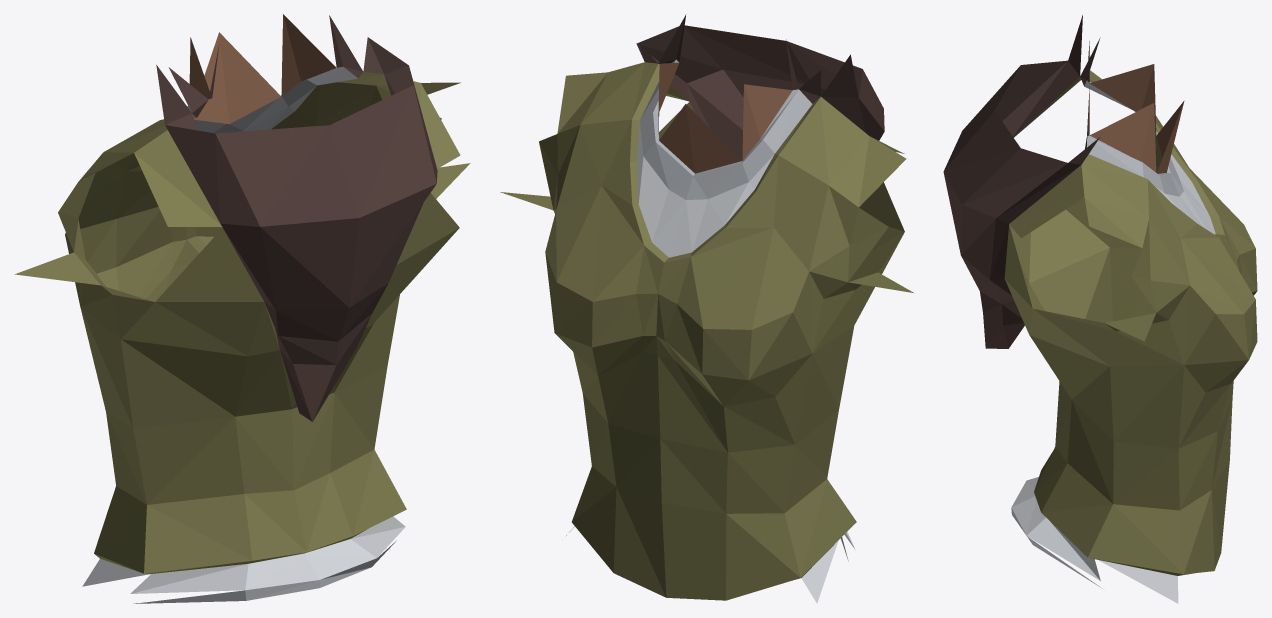
The model's file is Daughter_01_Torso_0_01_C.obj.
The picture shows the model from 3 angles, left to right: view 1: azimuth 30°, elevation 25°; view 2: azimuth 150°, elevation 25°; view 3: azimuth 270°, elevation 25°; orthographic projection. The views are drawn at different scales.
Visible parts, largest first — view 1: Daughter_01_Torso_0_01_C; view 2: Daughter_01_Torso_0_01_C; view 3: Daughter_01_Torso_0_01_C.
Part boxes in pixels (<box>): Daughter_01_Torso_0_01_C: <box>14,14,470,603</box>; Daughter_01_Torso_0_01_C: <box>500,14,914,603</box>; Daughter_01_Torso_0_01_C: <box>943,15,1257,603</box>.
Size of the model in its own units: 0.5319 by 0.6365 by 0.3688.
Materials: 1 (1 with a texture image).
